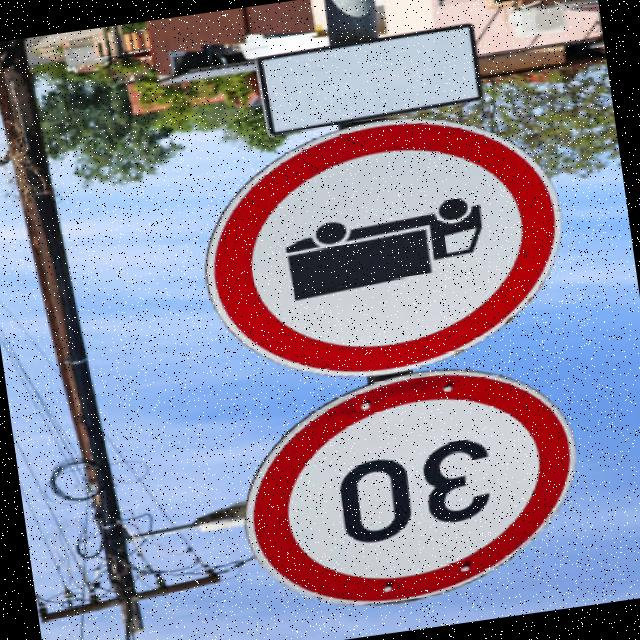do_not_enter: (162, 87, 589, 411)
